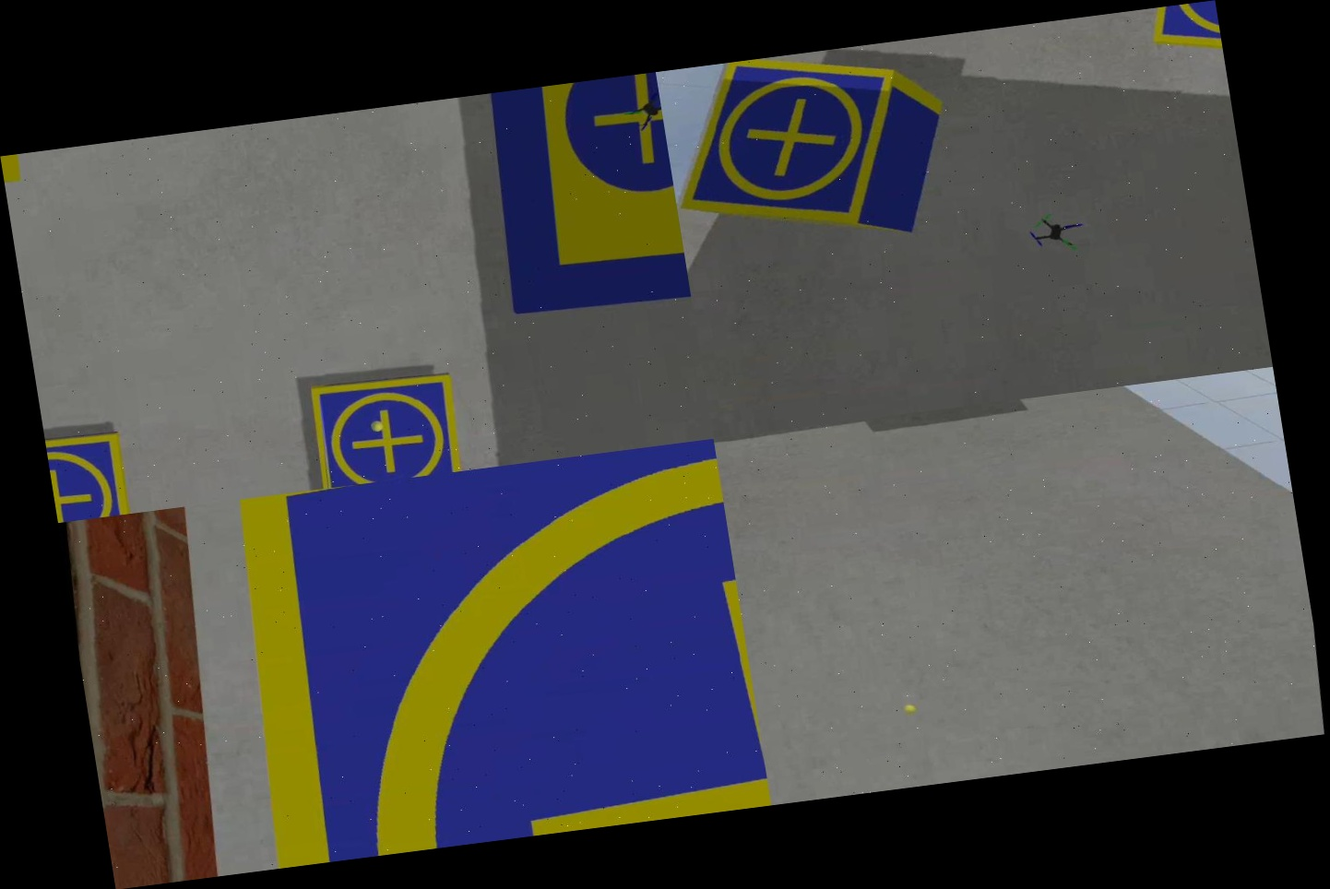large_base: (475, 72, 693, 327)
small_base: (204, 439, 771, 870), (656, 41, 924, 254), (300, 363, 468, 490), (43, 421, 134, 523)
